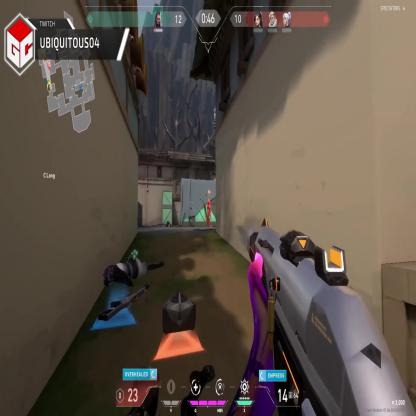enemy: (206, 198, 212, 228)
enemy_head: (208, 199, 210, 204)
